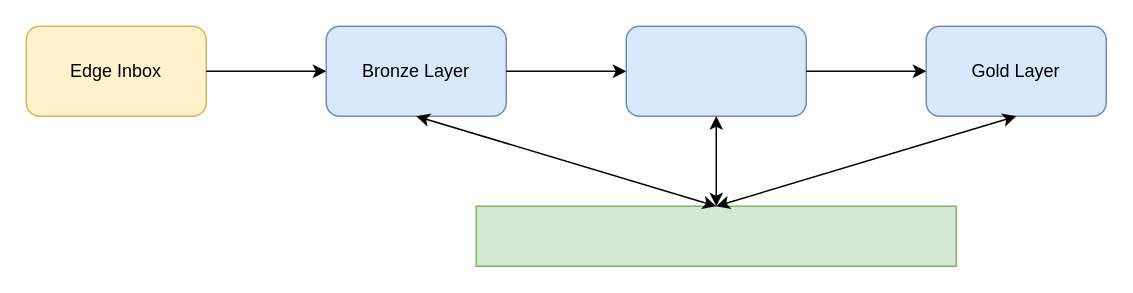
Some shapes in this 1133 by 293 pixel diagram are drawn without their labels. Each missing label, with the centre of its shape:
ETL Pipeline: point (715, 235)
Silver Layer: point (715, 70)
